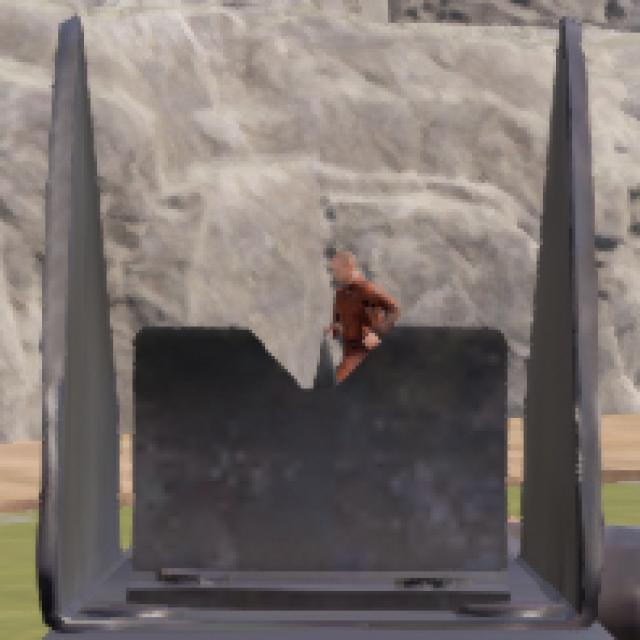Player: (329, 250, 399, 338)
